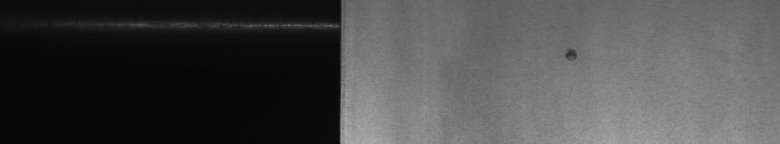fi: (559, 40, 580, 68)
